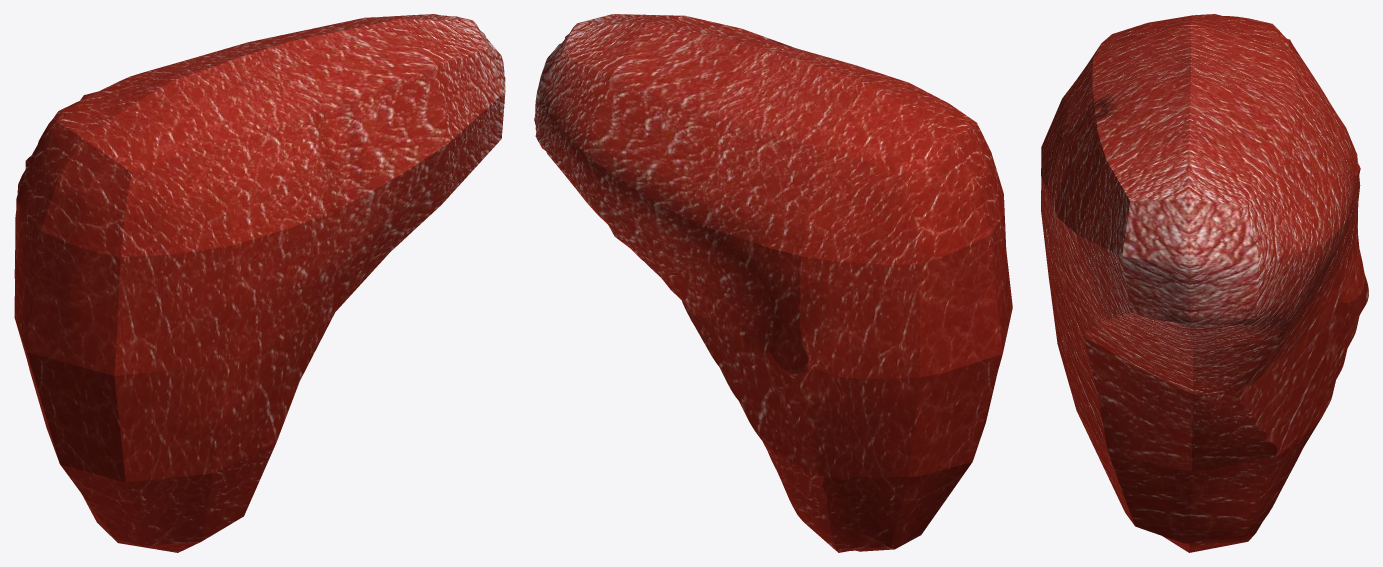
The model's file is healthy-liver.glb.
The picture shows the model from 3 angles, left to right: view 1: azimuth 30°, elevation 25°; view 2: azimuth 150°, elevation 25°; view 3: azimuth 270°, elevation 25°; orthographic projection. The views are drawn at different scales.
Parts seen in each view (by area): view 1: liver; view 2: liver; view 3: liver.
Part boxes in pixels (bbox=[...]): liver: bbox=[14, 14, 505, 552]; liver: bbox=[534, 14, 1012, 552]; liver: bbox=[1041, 14, 1368, 552].
Bounding box in the file's own units: 0.5193 × 0.51 × 0.2811.
1 material, 1 textured.
